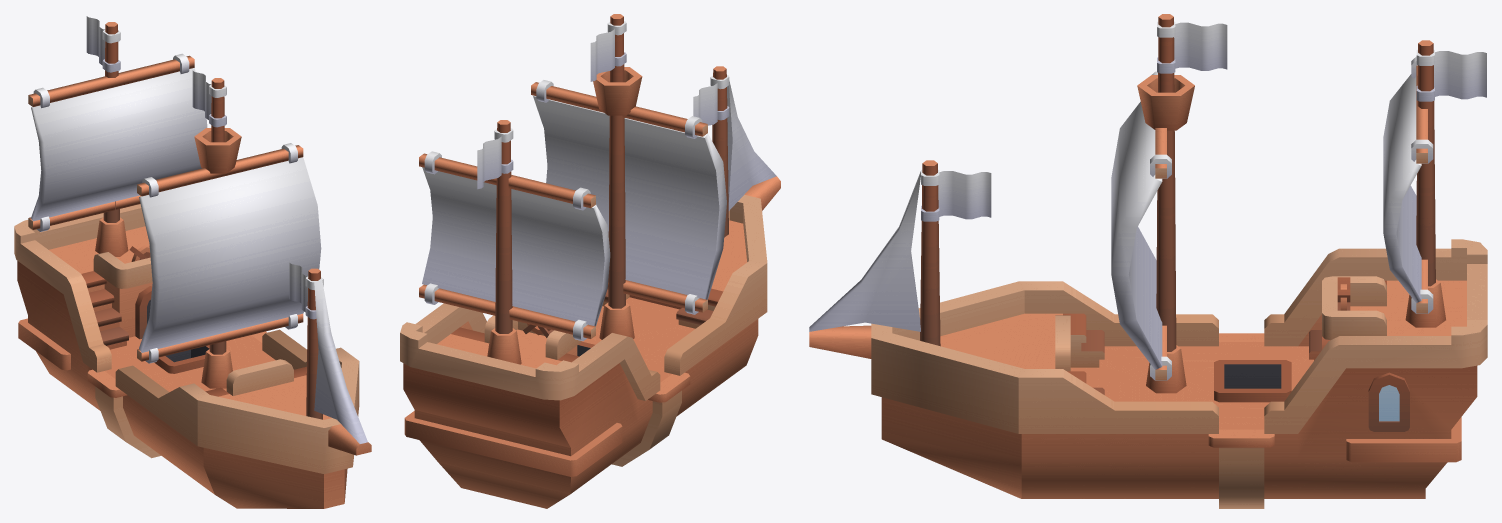
The model's file is ship-large.glb.
3 renders of one model, left to right at view 1: azimuth 30°, elevation 25°; view 2: azimuth 150°, elevation 25°; view 3: azimuth 270°, elevation 25°, orthographic. The views are drawn at different scales.
Visible parts, largest first — view 1: ship-large; view 2: ship-large; view 3: ship-large.
Boxes of the visible parts, x1=… form: ship-large: x1=14, y1=16, x2=371, y2=508; ship-large: x1=400, y1=14, x2=780, y2=508; ship-large: x1=809, y1=14, x2=1487, y2=508.
Bounding box in the file's own units: 4.8 × 9.96 × 13.1.
1 material, 1 textured.
